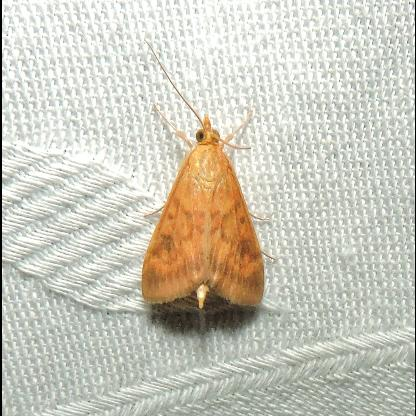Asian Corn Borer Moth: (138, 35, 278, 313)
